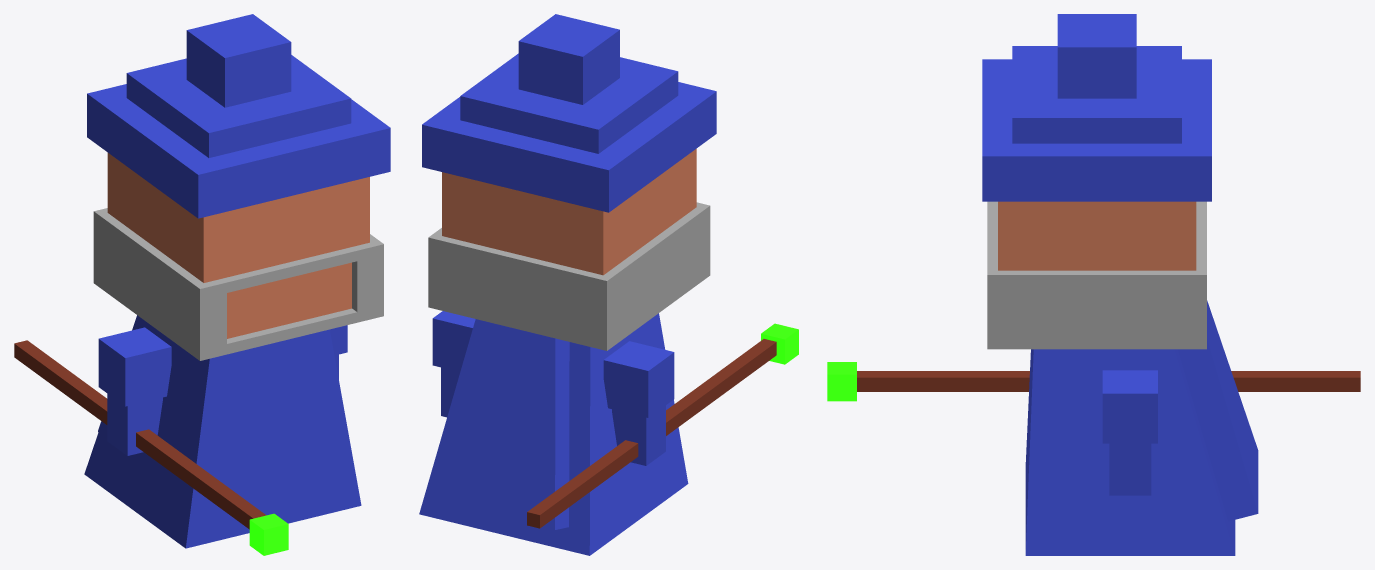
The model's file is wizard3.fbx.
3 views of the same model, side by side, from view 1: azimuth 30°, elevation 25°; view 2: azimuth 150°, elevation 25°; view 3: azimuth 270°, elevation 25° (orthographic). The views are drawn at different scales.
Parts seen in each view (by area): view 1: Cube.002, Cube, Cube.001, Cube.004, Cube.003, Cube.005, Cube.006; view 2: Cube.002, Cube, Cube.004, Cube.001, Cube.003, Cube.005, Cube.006; view 3: Cube.002, Cube, Cube.004, Cube.001, Cube.005, Cube.006.
Boxes of the visible parts, x1,y1,x2,y2 form: Cube.002: (87,14,390,379); Cube: (84,315,361,548); Cube.001: (107,153,369,338); Cube.004: (93,208,383,360); Cube.003: (98,327,171,455); Cube.005: (14,340,266,529); Cube.006: (249,513,288,555); Cube.002: (422,14,716,417); Cube: (419,313,688,555); Cube.004: (428,202,710,350); Cube.001: (442,149,696,275); Cube.003: (603,341,674,465); Cube.005: (527,339,776,528); Cube.006: (761,323,798,364); Cube.002: (982,14,1211,495); Cube: (1025,300,1258,555); Cube.004: (987,201,1206,349); Cube.001: (998,201,1196,270); Cube.005: (857,371,1360,391); Cube.006: (827,362,856,401).
Bounding box in the file's own units: 360 × 721 × 725.
